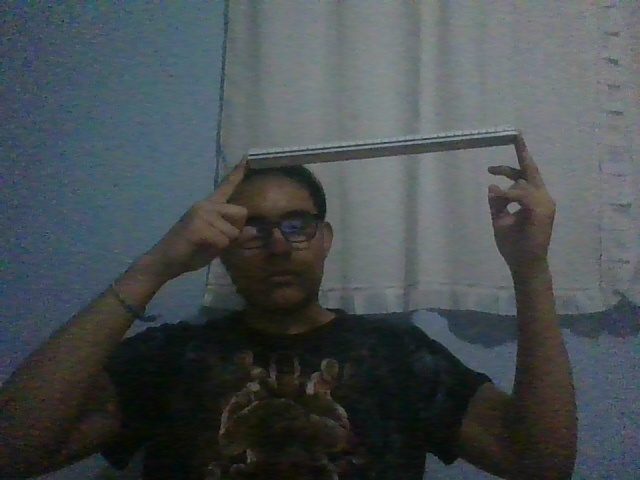regla: (247, 125, 519, 170)
